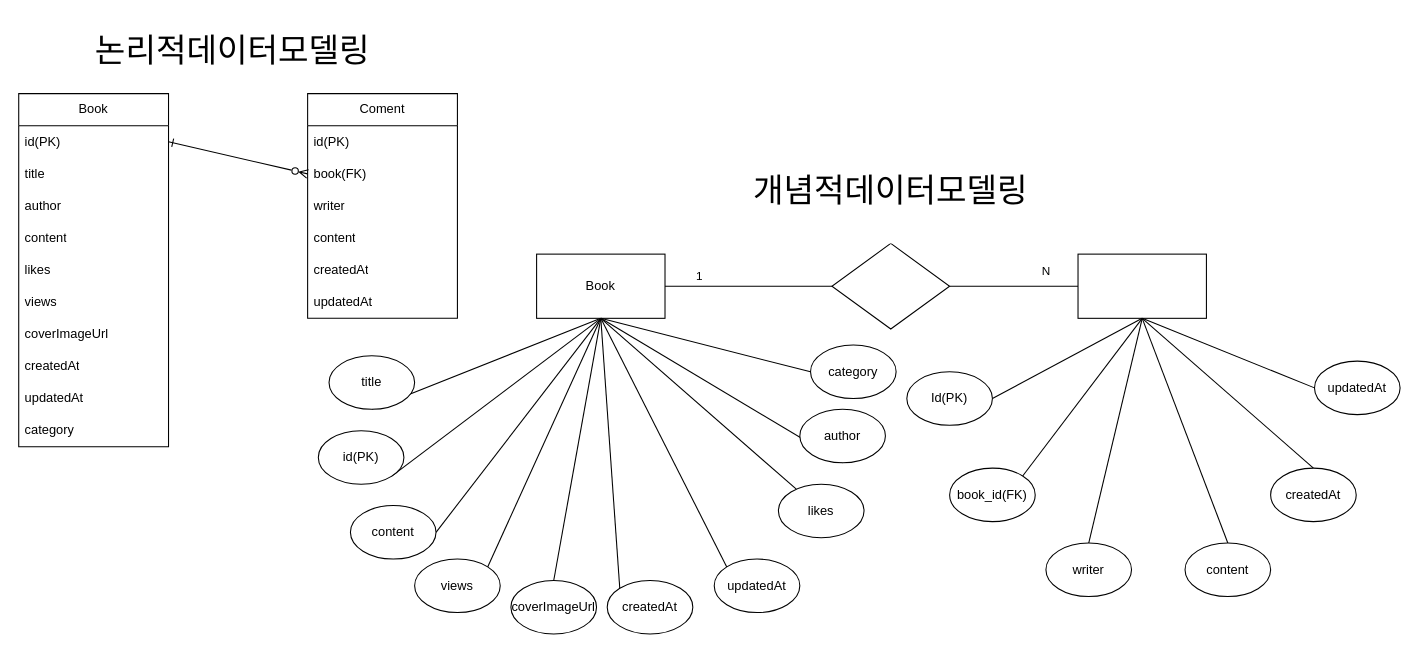
This 1419x653 diagram has some shape labels left out. Each missing label, with the centre of its shape:
Comment: the point at 1141,285
has: the point at 890,285
